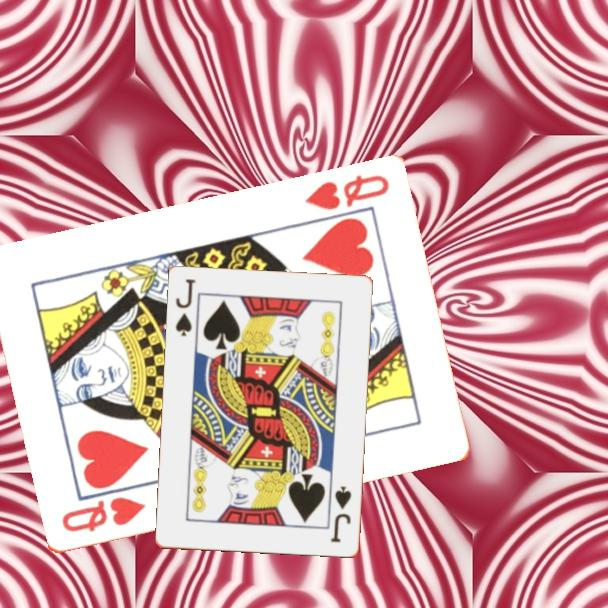h12: (301, 172, 392, 214), (58, 494, 148, 536)
s11: (328, 483, 355, 545), (173, 276, 199, 339)
